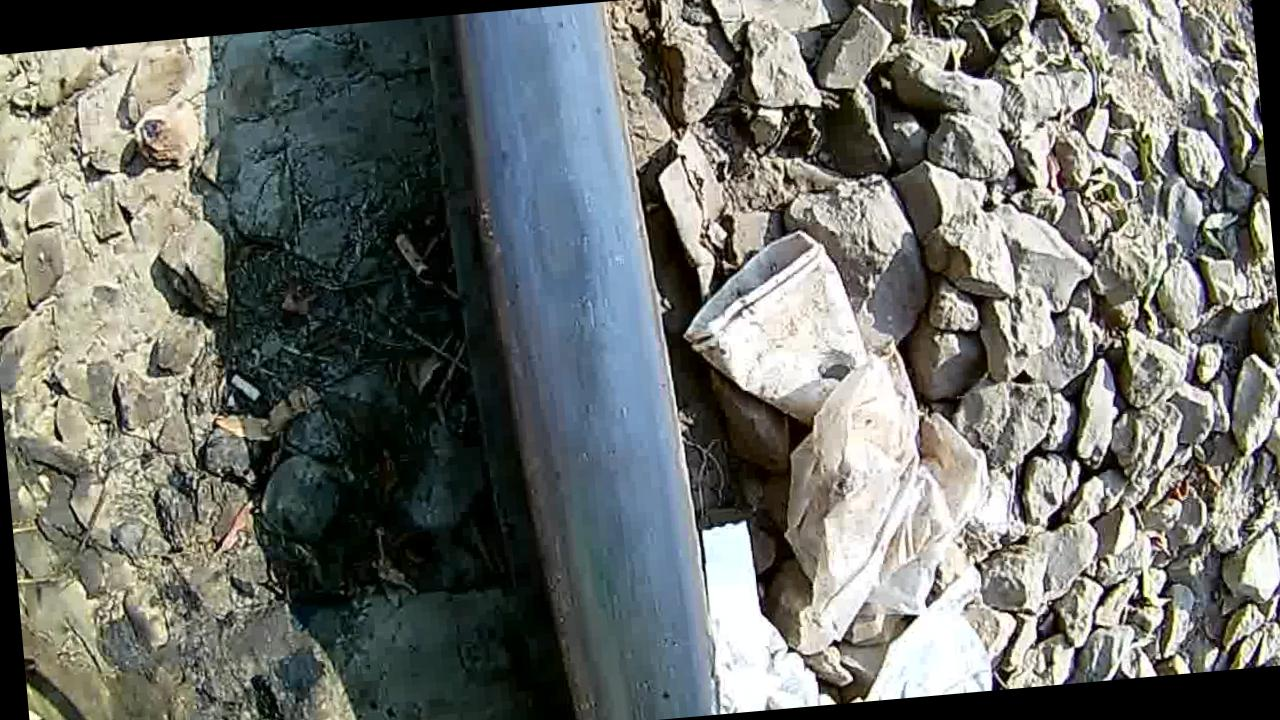bolt_missing: (431, 0, 669, 478)
